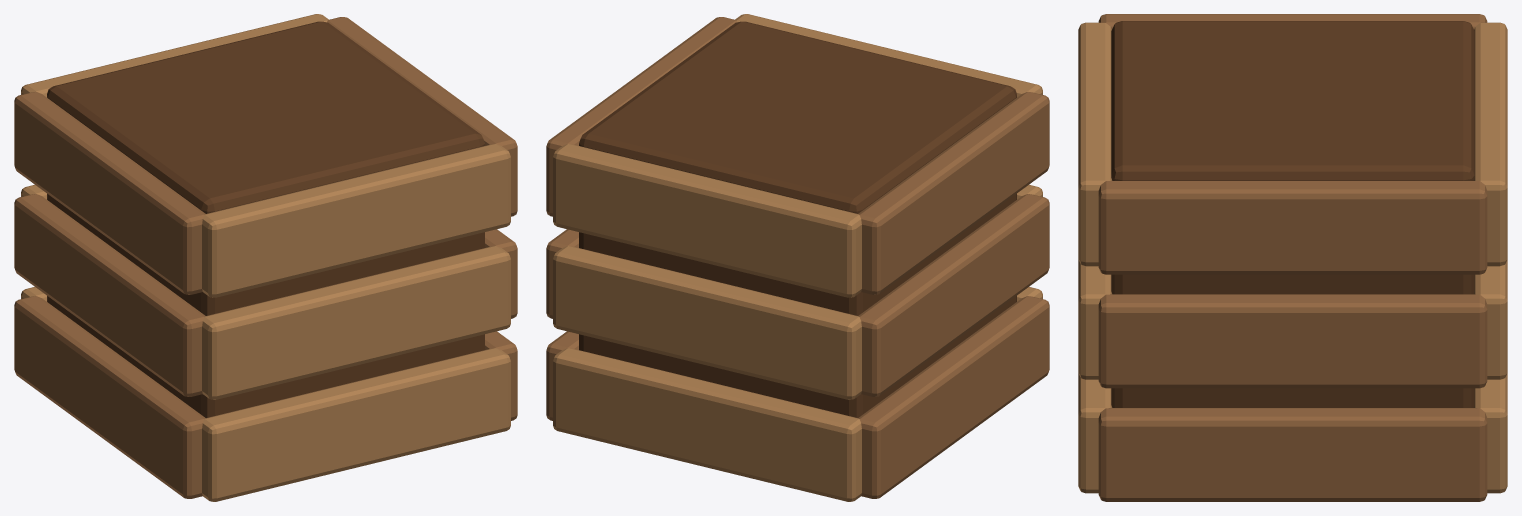
File: crate_wood_0p6.glb
3 views of the same model, side by side, from view 1: azimuth 30°, elevation 25°; view 2: azimuth 150°, elevation 25°; view 3: azimuth 270°, elevation 25° (orthographic). The views are drawn at different scales.
Parts seen in each view (by area): view 1: crate_core, crate_y_-0.315_03, crate_y_-0.315_01, crate_y_-0.315_02, crate_x_-0.315_02, crate_x_-0.315_01, crate_x_-0.315_03, crate_x_+0.315_03, crate_y_+0.315_03, crate_x_+0.315_02, crate_x_+0.315_01; view 2: crate_core, crate_y_+0.315_03, crate_y_+0.315_01, crate_y_+0.315_02, crate_x_-0.315_02, crate_x_-0.315_01, crate_x_-0.315_03, crate_x_+0.315_03, crate_y_-0.315_03, crate_x_+0.315_02, crate_x_+0.315_01; view 3: crate_core, crate_x_+0.315_02, crate_x_+0.315_01, crate_x_+0.315_03, crate_y_-0.315_03, crate_y_+0.315_03, crate_x_-0.315_03, crate_y_-0.315_01, crate_y_+0.315_01, crate_y_-0.315_02, crate_y_+0.315_02.
Part boxes in pixels (x1,y1,x2,y2): crate_core: (47,21,484,417); crate_y_-0.315_03: (202,144,510,297); crate_y_-0.315_01: (202,348,510,501); crate_y_-0.315_02: (202,246,510,399); crate_x_-0.315_02: (14,194,205,396); crate_x_-0.315_01: (14,296,205,498); crate_x_-0.315_03: (14,92,205,294); crate_x_+0.315_03: (327,17,517,216); crate_y_+0.315_03: (21,14,328,97); crate_x_+0.315_02: (485,229,517,318); crate_x_+0.315_01: (485,331,517,420); crate_core: (579,21,1016,417); crate_y_+0.315_03: (553,144,861,297); crate_y_+0.315_01: (553,348,861,501); crate_y_+0.315_02: (553,246,861,399); crate_x_-0.315_02: (858,194,1049,396); crate_x_-0.315_01: (858,296,1049,498); crate_x_-0.315_03: (858,92,1049,294); crate_x_+0.315_03: (546,17,736,216); crate_y_-0.315_03: (735,14,1042,97); crate_x_+0.315_02: (546,229,578,318); crate_x_+0.315_01: (546,331,578,420); crate_core: (1111,21,1474,407); crate_x_+0.315_02: (1098,294,1487,388); crate_x_+0.315_01: (1098,408,1487,501); crate_x_+0.315_03: (1098,181,1487,274); crate_y_-0.315_03: (1078,22,1112,266); crate_y_+0.315_03: (1473,22,1507,266); crate_x_-0.315_03: (1098,14,1487,29); crate_y_-0.315_01: (1078,373,1112,493); crate_y_+0.315_01: (1473,373,1507,493); crate_y_-0.315_02: (1078,259,1111,379); crate_y_+0.315_02: (1474,259,1507,379).
Bounding box in the file's own units: 0.685 × 0.58 × 0.685.
